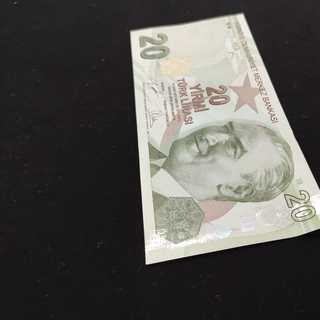20TLFront: (129, 12, 320, 264)
